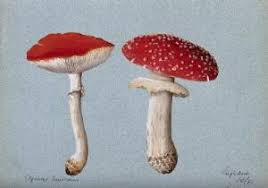Amanita muscaria: (119, 18, 222, 178), (16, 23, 116, 184)
